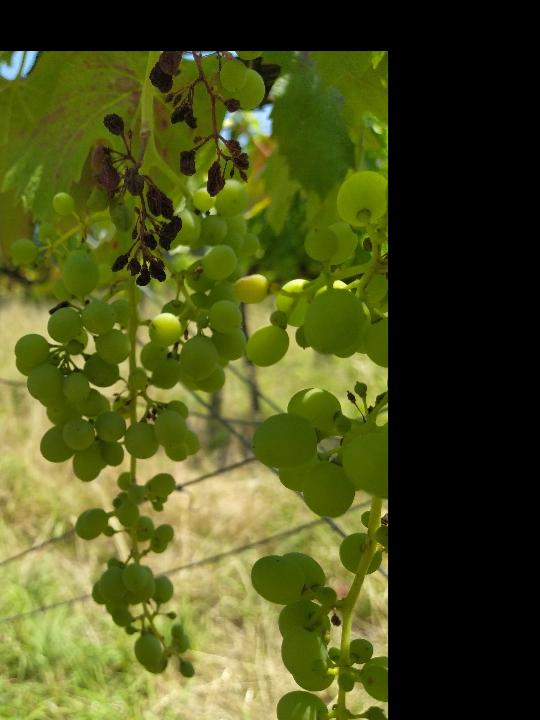grape: (0, 148, 267, 693), (85, 52, 266, 291)
